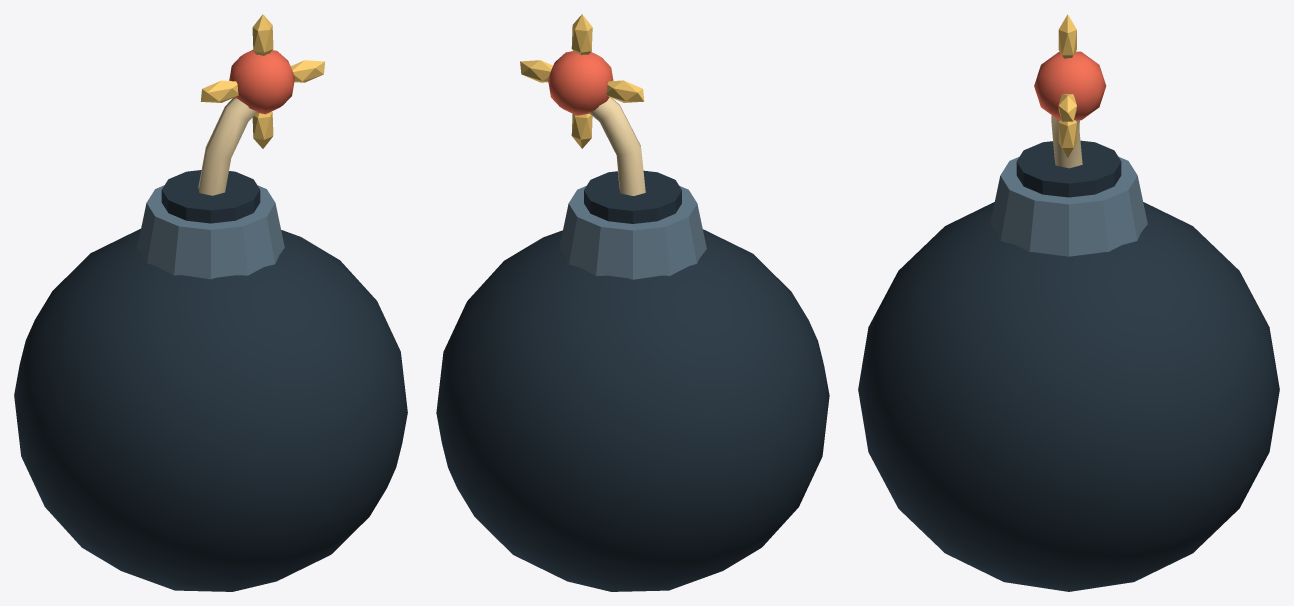
Rendered from bomb_v1.glb.
3 renders of one model, left to right at view 1: azimuth 30°, elevation 25°; view 2: azimuth 150°, elevation 25°; view 3: azimuth 270°, elevation 25°, orthographic. The views are drawn at different scales.
Visible parts, largest first — view 1: Bomb / faceted dark shell, Bomb / socket collar, Bomb / socket cap, Bomb / coral ember core, Bomb / bent warm fuse, Bomb / spark ray 2, Bomb / spark ray 1, Bomb / spark ray 3, Bomb / spark ray 0; view 2: Bomb / faceted dark shell, Bomb / socket collar, Bomb / socket cap, Bomb / coral ember core, Bomb / bent warm fuse, Bomb / spark ray 2, Bomb / spark ray 1, Bomb / spark ray 3, Bomb / spark ray 0; view 3: Bomb / faceted dark shell, Bomb / socket collar, Bomb / socket cap, Bomb / coral ember core, Bomb / bent warm fuse, Bomb / spark ray 2, Bomb / spark ray 3.
Boxes of the visible parts, <box> form: Bomb / faceted dark shell: <box>14,228,407,591</box>; Bomb / socket collar: <box>137,185,284,279</box>; Bomb / socket cap: <box>161,170,260,223</box>; Bomb / coral ember core: <box>229,50,294,114</box>; Bomb / bent warm fuse: <box>198,98,257,195</box>; Bomb / spark ray 2: <box>252,14,273,55</box>; Bomb / spark ray 1: <box>200,80,238,102</box>; Bomb / spark ray 3: <box>252,111,273,148</box>; Bomb / spark ray 0: <box>291,60,325,82</box>; Bomb / faceted dark shell: <box>436,229,829,591</box>; Bomb / socket collar: <box>559,186,706,279</box>; Bomb / socket cap: <box>584,170,681,223</box>; Bomb / coral ember core: <box>548,51,613,115</box>; Bomb / bent warm fuse: <box>589,97,645,195</box>; Bomb / spark ray 2: <box>571,14,592,54</box>; Bomb / spark ray 1: <box>606,80,644,102</box>; Bomb / spark ray 3: <box>571,113,592,148</box>; Bomb / spark ray 0: <box>520,60,552,82</box>; Bomb / faceted dark shell: <box>858,202,1279,591</box>; Bomb / socket collar: <box>990,156,1147,256</box>; Bomb / socket cap: <box>1016,140,1121,197</box>; Bomb / coral ember core: <box>1034,51,1106,120</box>; Bomb / bent warm fuse: <box>1051,115,1082,168</box>; Bomb / spark ray 2: <box>1058,14,1076,58</box>; Bomb / spark ray 3: <box>1058,120,1076,157</box>.
Bounding box in the file's own units: 0.7 × 1.07 × 0.7.
